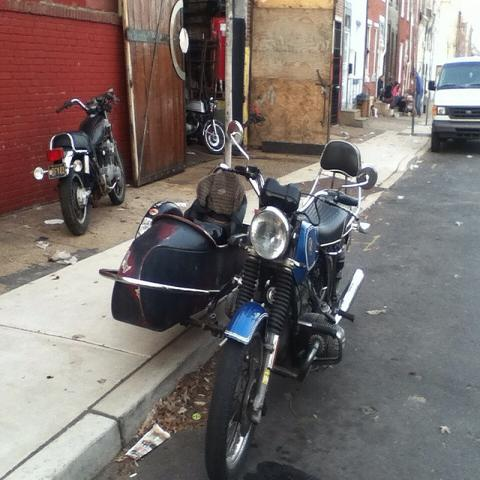motorcycle: (100, 118, 375, 472), (34, 90, 127, 226), (185, 92, 226, 154)
truck: (426, 57, 479, 148)
